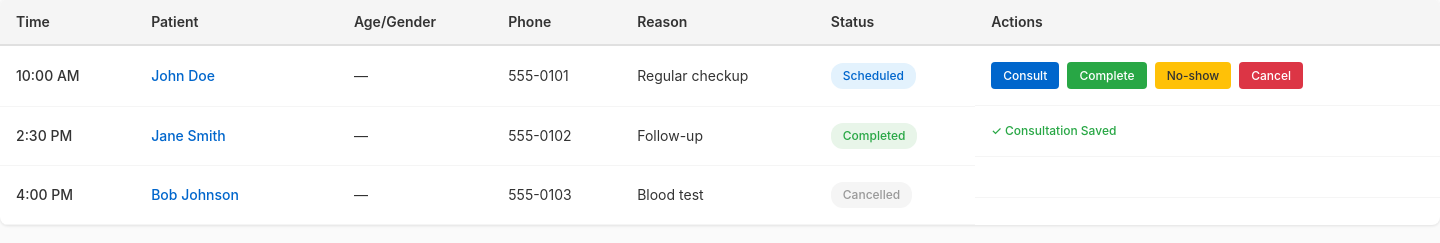
Test: AppointmentList Component › Button States › should disable buttons while updating
The width and height of the screenshot is (1440, 243).
Click the button titled "Mark as Completed": click(1107, 76) 1067,62 -> 1147,89
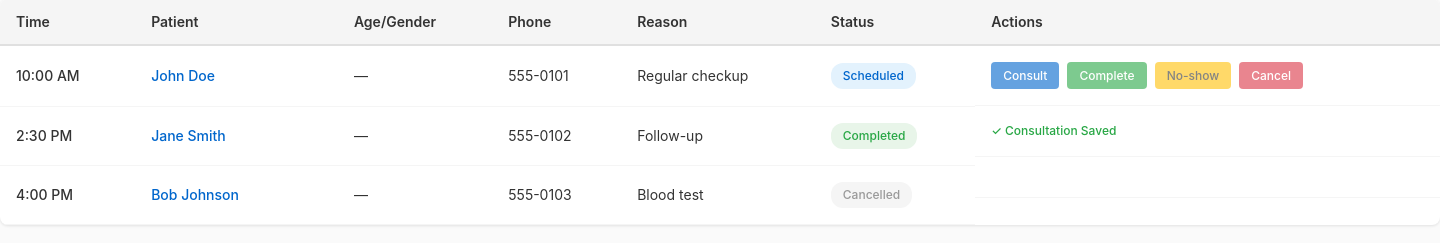
Expected: the button titled "Mark as Completed" is disabled, 1067,62 -> 1147,89
